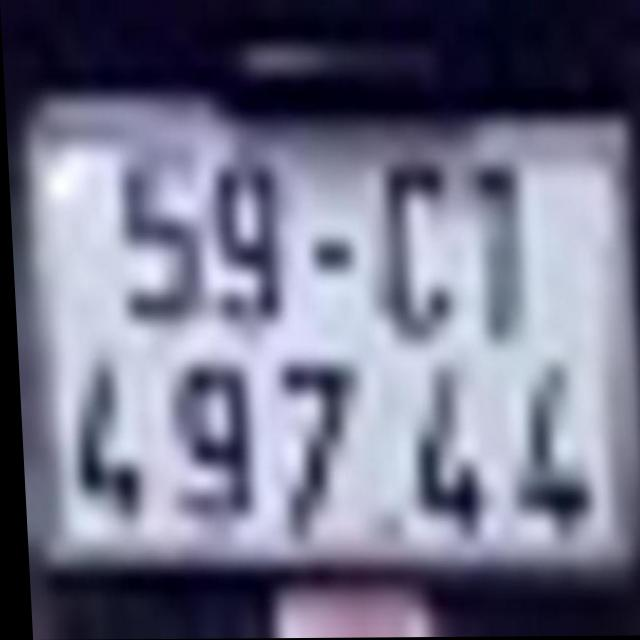1: (466, 162, 531, 346)
4: (495, 353, 593, 553), (399, 357, 483, 552), (63, 357, 144, 540)
5: (108, 144, 206, 328)
7: (259, 352, 365, 550)
9: (156, 352, 257, 545), (207, 155, 289, 340)
C: (365, 155, 466, 355)
